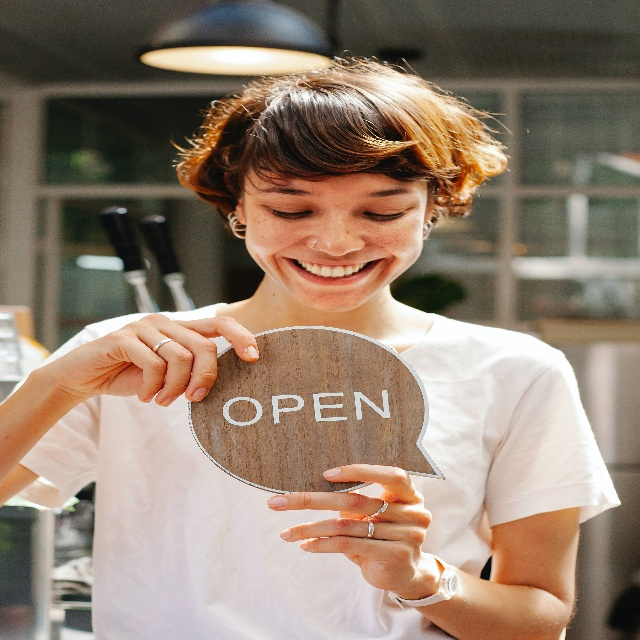Sin_guantes: (267, 463, 432, 591), (49, 312, 259, 407)
